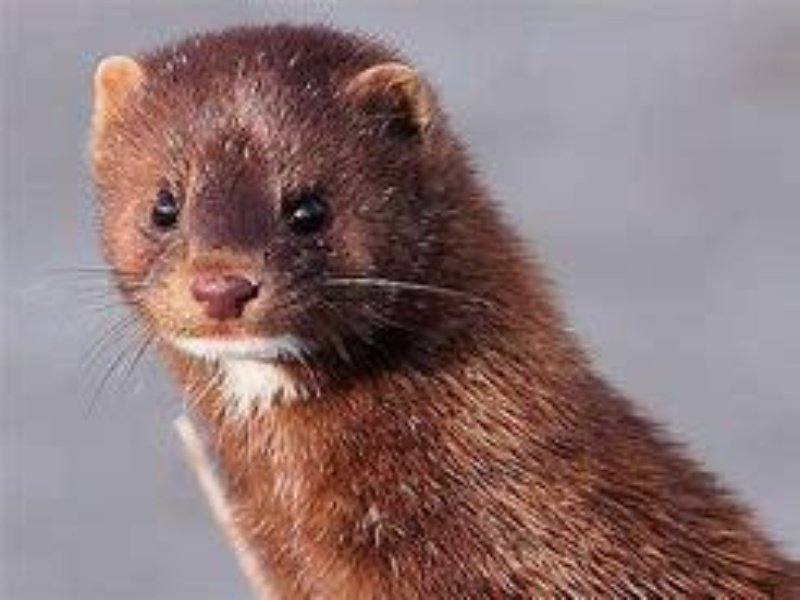minkish: (80, 20, 792, 597)
